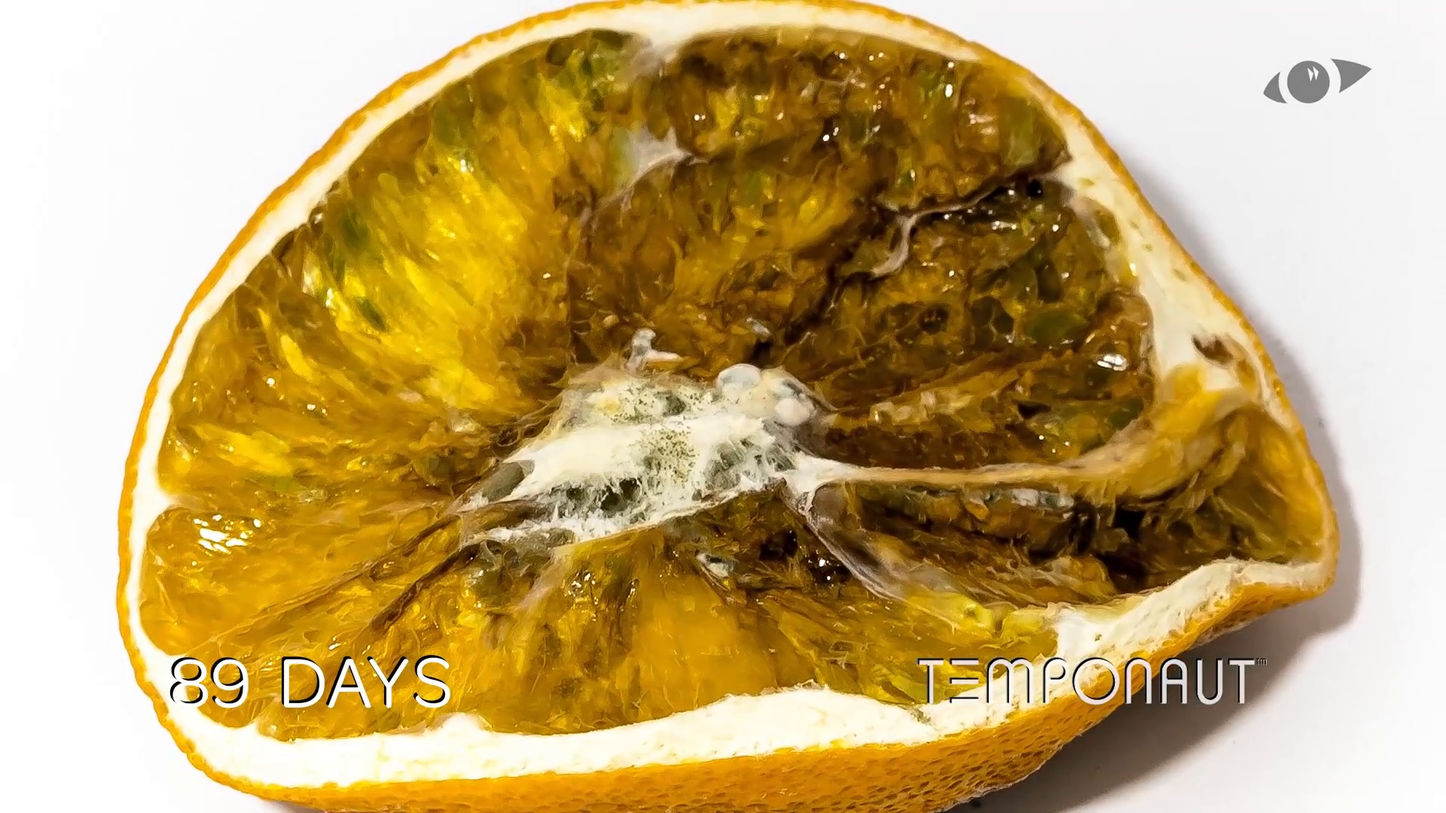orange_rotten: (116, 5, 1346, 802)
